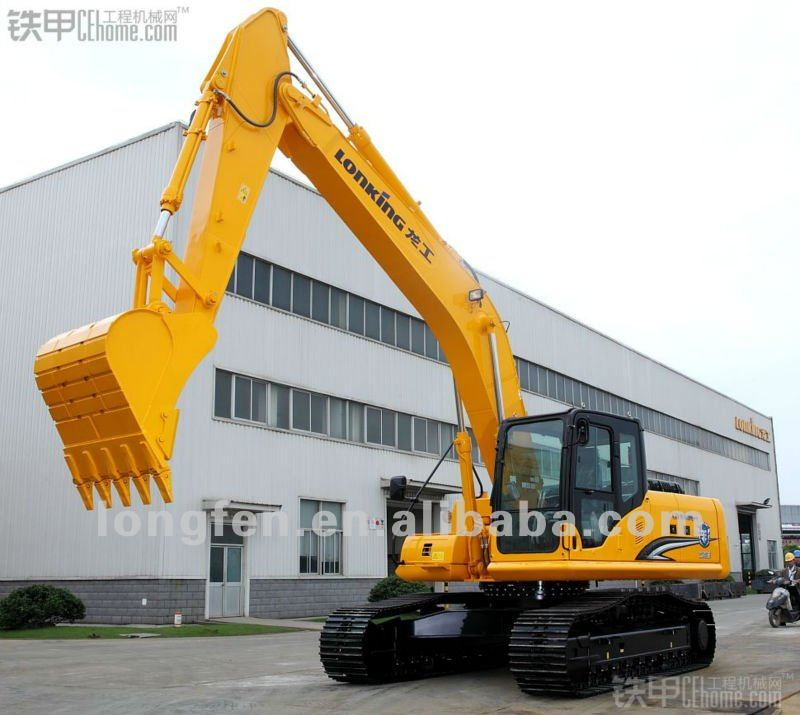backhoe: (28, 8, 735, 690)
